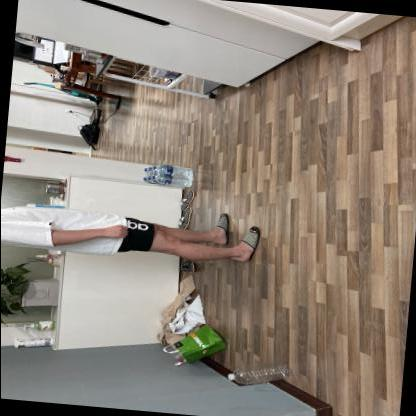no_safety-shoe: (228, 229, 266, 269), (200, 209, 234, 249)
